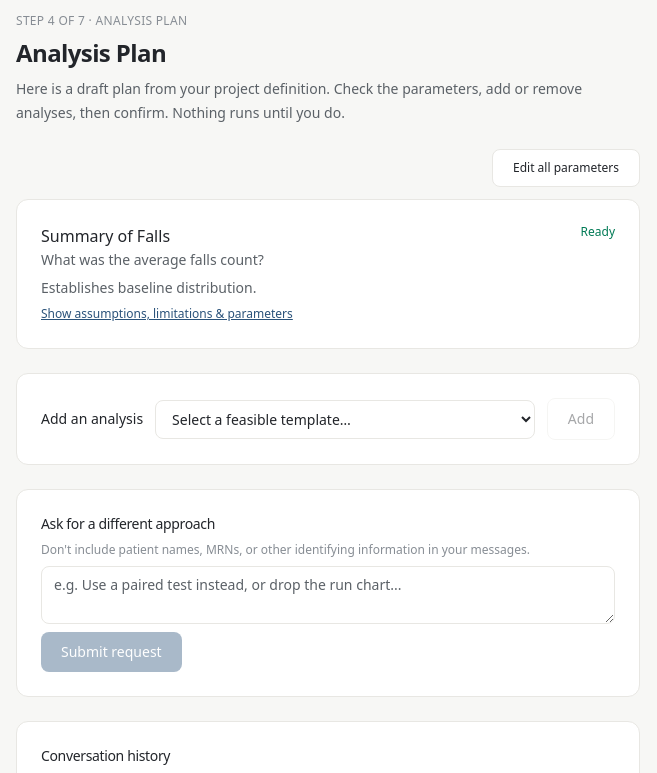
Test: AnalysisPlanStage with the advisor off › shows a plain message instead of a crash when override-plan returns advisor_unavailable
Type "drop the run chart" into the text box with placeholder "e.g. Use a paired test instead, or drop the run chart..." at (328, 595), box [41,566,615,624]
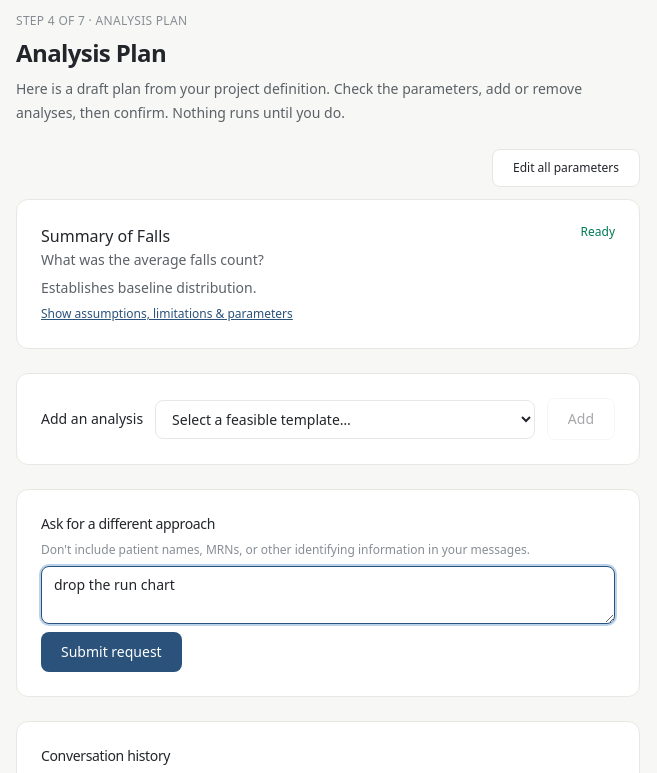
Click the button "Submit request" at (111, 652), box [41,632,182,672]
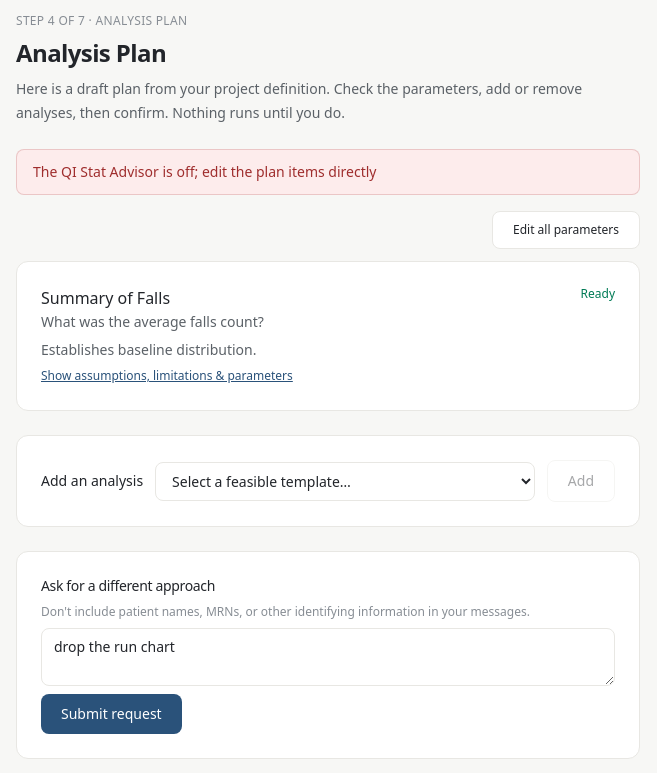
Expected: the text "Summary of Falls" is shown, [41,287,170,309]
Expected: the text "The QI Stat Advisor is off; edit the plan items directly" is shown, [16,149,640,195]
